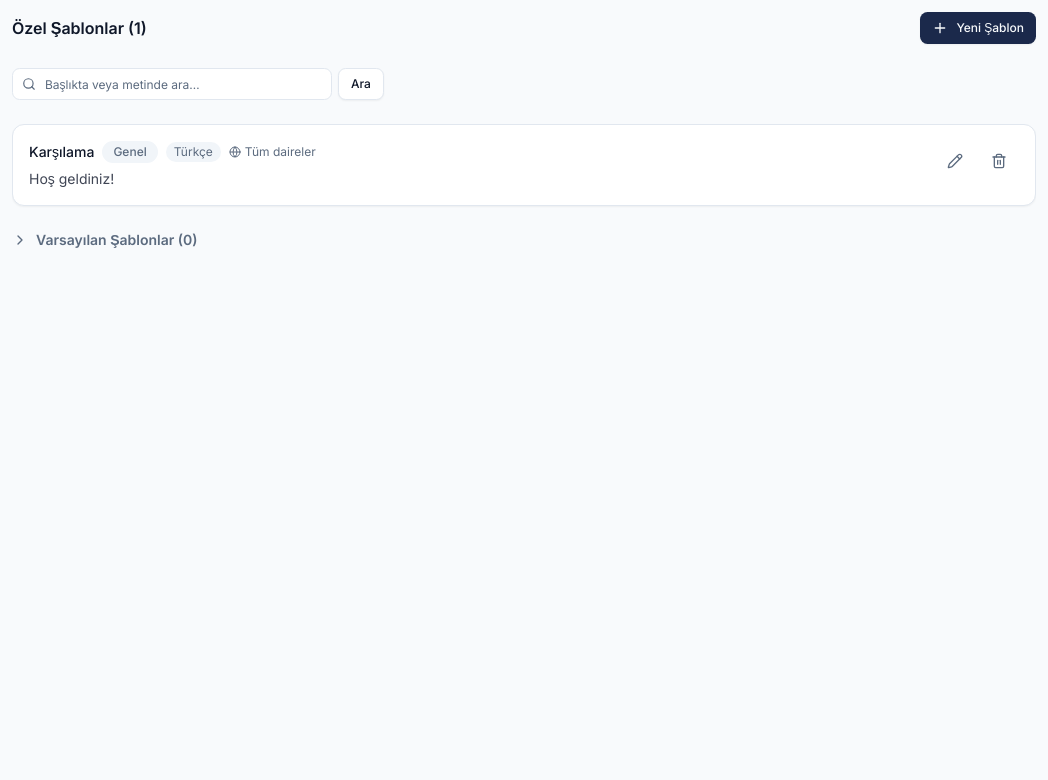
Test: şablon düzenleme — geç dönen tam metin okuması sonradan açılan formu ezmez (11-19 gece, Haiku bulgusu) › 🚨 'Düzenle' beklerken açık 'Yeni Şablon' formu aynı düğmeyle kapatılırsa geç gelen yanıt formu yeniden AÇMAZ
What coordinates should you click on to do the following:
click the button "Yeni Şablon"
I would click on:
 (978, 28)
Its box is [920,12,1036,44].
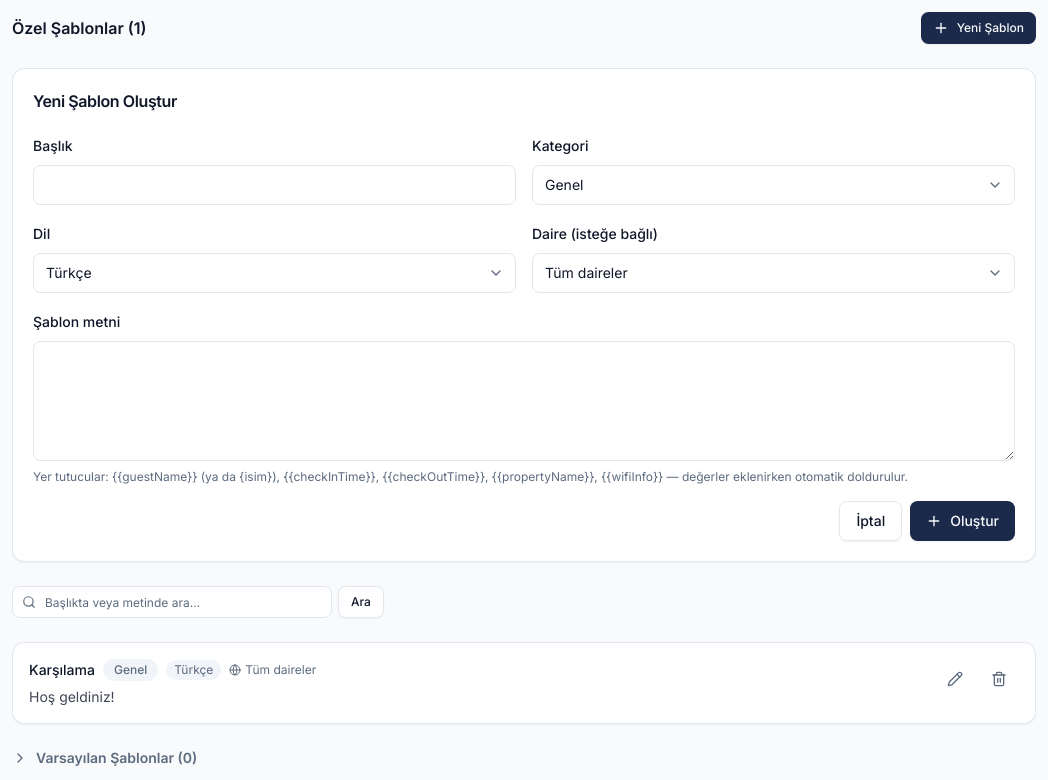
What coordinates should you click on to do the following:
click the button named "Düzenle"
I would click on:
 (955, 679)
Its box is [935,659,975,699].
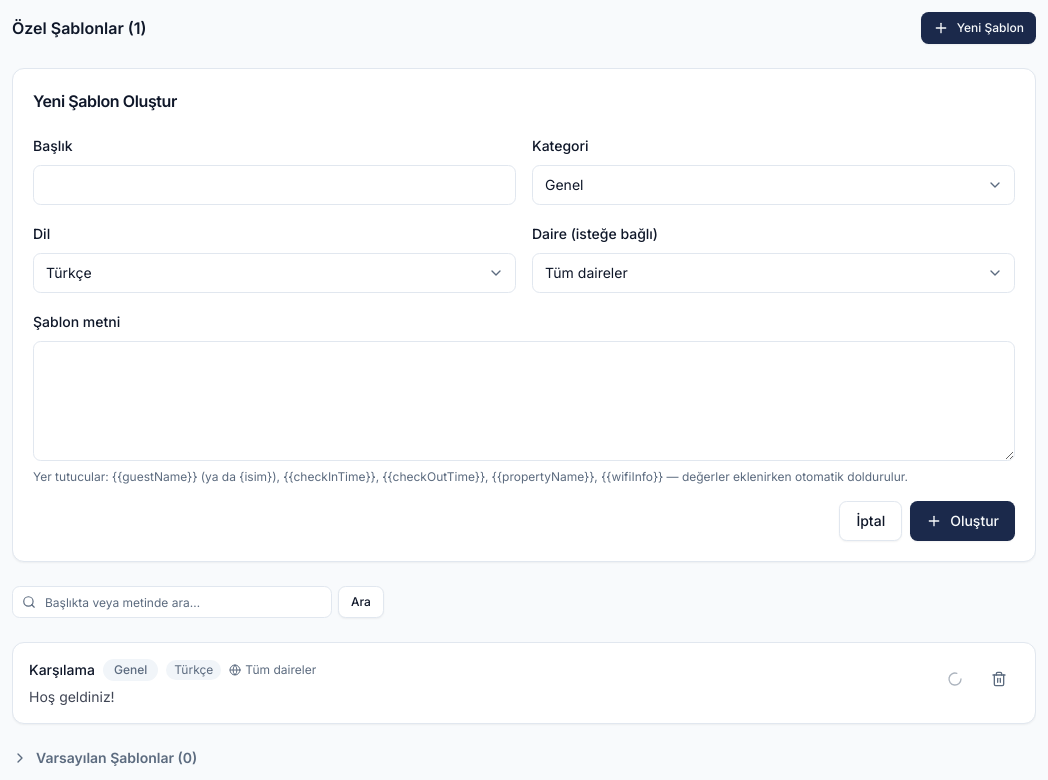
What coordinates should you click on to do the following:
click the button "Yeni Şablon"
I would click on:
 (978, 28)
Its box is [921,12,1036,44].
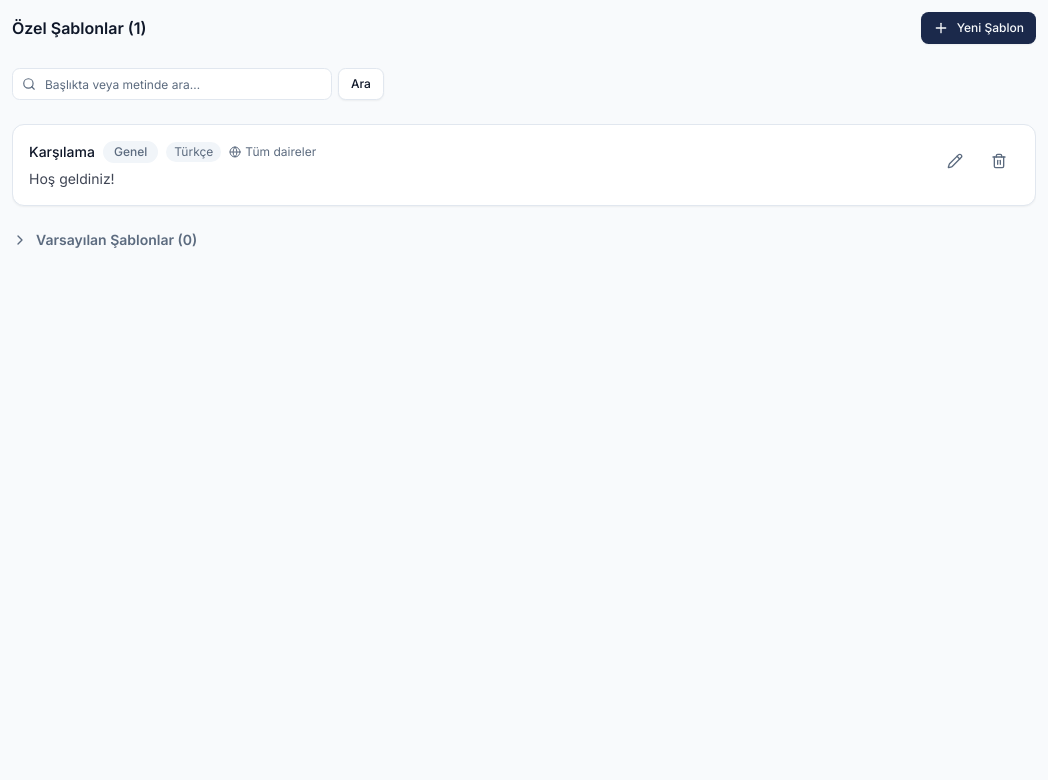
Now the label labelled "Şablon metni" is gone
